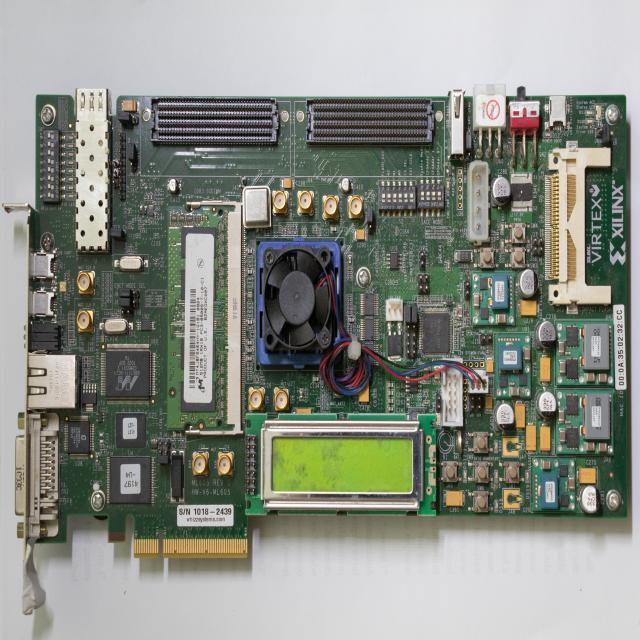Button: (468, 491, 494, 512), (468, 432, 493, 453), (499, 462, 524, 483), (505, 247, 529, 268), (505, 223, 530, 243), (468, 462, 493, 482), (439, 461, 462, 482), (474, 248, 498, 268)
Capacitor: (432, 363, 441, 383), (422, 364, 430, 384), (558, 360, 566, 376), (558, 408, 566, 424), (558, 428, 566, 444), (568, 474, 575, 492), (509, 386, 520, 397), (584, 441, 596, 451), (596, 442, 608, 452), (558, 340, 565, 356), (584, 373, 596, 382), (597, 373, 607, 383), (541, 460, 551, 470), (496, 314, 507, 323), (473, 293, 479, 309), (524, 347, 530, 362), (344, 231, 350, 244), (245, 338, 254, 346), (245, 346, 254, 354), (245, 355, 254, 363), (95, 452, 100, 465), (330, 225, 338, 233), (348, 316, 356, 324), (246, 318, 254, 326), (245, 268, 254, 275), (386, 389, 395, 396), (386, 405, 395, 412), (246, 248, 254, 255), (312, 376, 320, 383), (386, 382, 395, 388), (446, 260, 451, 270), (299, 387, 303, 399), (386, 398, 394, 404), (423, 400, 430, 406), (100, 335, 105, 343), (140, 182, 146, 188), (128, 207, 132, 216), (153, 232, 159, 238), (564, 482, 568, 491), (565, 419, 572, 424), (128, 221, 132, 229), (466, 330, 471, 336), (565, 351, 571, 356), (514, 378, 520, 383), (353, 394, 359, 399), (180, 438, 186, 443), (97, 480, 102, 486), (256, 228, 263, 232), (409, 251, 413, 258), (442, 298, 446, 305), (130, 182, 135, 187), (136, 233, 141, 238), (111, 313, 116, 318), (439, 256, 442, 264), (254, 375, 257, 383), (257, 375, 260, 383), (154, 212, 157, 219), (131, 247, 134, 254), (423, 390, 426, 397), (426, 390, 429, 397), (116, 314, 121, 318), (396, 227, 398, 236), (128, 246, 130, 254), (376, 258, 378, 266), (462, 338, 464, 346), (171, 438, 175, 442), (372, 194, 374, 201), (376, 251, 378, 258), (384, 256, 386, 263), (429, 298, 431, 305), (374, 389, 376, 396)
Clock: (243, 185, 271, 228), (170, 450, 184, 503), (114, 254, 148, 273), (99, 318, 133, 334)
Connector: (546, 141, 612, 315), (140, 95, 290, 147), (295, 96, 443, 147), (7, 410, 64, 542), (75, 88, 111, 255), (24, 354, 80, 409), (304, 297, 338, 373), (468, 160, 490, 246), (441, 362, 462, 429), (449, 88, 465, 161), (32, 286, 57, 323), (33, 248, 57, 285), (545, 96, 569, 129), (246, 433, 256, 496), (118, 132, 127, 201), (386, 298, 402, 332), (468, 369, 488, 393), (76, 271, 95, 296), (77, 308, 95, 334), (218, 450, 234, 478), (272, 190, 289, 216), (297, 190, 314, 216), (347, 195, 364, 221), (192, 451, 209, 477), (322, 195, 339, 220), (248, 387, 265, 412), (274, 386, 290, 412), (405, 325, 416, 357), (457, 167, 463, 210), (468, 394, 482, 412), (416, 274, 429, 293), (531, 237, 543, 255), (462, 376, 468, 412), (158, 438, 170, 454), (463, 361, 485, 369), (418, 251, 426, 269), (464, 283, 472, 301), (132, 290, 140, 308), (434, 394, 441, 414), (120, 308, 133, 318), (479, 334, 492, 344), (240, 176, 246, 194), (112, 167, 119, 178), (112, 177, 119, 188), (131, 114, 138, 124), (595, 128, 602, 138), (112, 158, 119, 168), (367, 224, 373, 234), (130, 162, 136, 171)
Diode: (443, 300, 455, 306)
Electrolytic Capacitor: (535, 386, 557, 421), (490, 175, 511, 210), (576, 484, 600, 514), (535, 319, 557, 350), (517, 270, 539, 299), (494, 402, 514, 432), (538, 353, 551, 386), (576, 467, 598, 484), (539, 422, 551, 453), (444, 490, 465, 507), (514, 399, 525, 431), (525, 422, 536, 454), (518, 300, 539, 316), (358, 375, 369, 405), (340, 177, 358, 194), (167, 178, 182, 195), (456, 250, 475, 262), (121, 100, 138, 112), (139, 188, 154, 200), (486, 354, 494, 376), (353, 229, 367, 241), (485, 392, 492, 413)
Ferrite Bead: (59, 498, 66, 504), (60, 454, 64, 464), (69, 339, 75, 345), (100, 450, 106, 455)
IC: (256, 243, 344, 375), (101, 345, 156, 404), (106, 458, 155, 504), (418, 308, 452, 357), (580, 323, 609, 371), (581, 392, 610, 440), (115, 412, 146, 448), (540, 399, 560, 436), (81, 383, 98, 412), (360, 293, 378, 316), (360, 318, 378, 340), (362, 344, 378, 367), (386, 252, 402, 269), (405, 376, 422, 392), (566, 326, 578, 348), (566, 426, 578, 448), (566, 394, 578, 415), (567, 360, 578, 380), (137, 320, 155, 331), (498, 375, 508, 388), (559, 464, 568, 477), (560, 494, 569, 507), (150, 439, 158, 452), (96, 412, 105, 423), (480, 275, 488, 287), (519, 374, 527, 386), (481, 307, 488, 320), (149, 204, 153, 220)
Jumper: (117, 112, 131, 125), (110, 228, 125, 240), (156, 454, 171, 466), (128, 142, 136, 161), (602, 124, 609, 144), (606, 383, 613, 402), (119, 288, 132, 298), (119, 298, 132, 308), (367, 205, 374, 223), (411, 306, 417, 324), (466, 131, 471, 150)
Led: (22, 323, 62, 351), (595, 104, 601, 122), (59, 281, 66, 292), (66, 150, 75, 158), (462, 469, 467, 482), (66, 168, 75, 175), (66, 176, 75, 183), (66, 193, 75, 200), (66, 134, 75, 141), (66, 184, 74, 191), (66, 143, 75, 149), (66, 160, 75, 166), (494, 440, 498, 453), (446, 178, 450, 190), (500, 222, 504, 234), (494, 470, 498, 482), (525, 471, 529, 483), (494, 500, 498, 512), (586, 110, 594, 116), (586, 118, 594, 124), (543, 132, 551, 138), (501, 239, 504, 251)
Pads: (134, 538, 248, 558), (502, 436, 521, 458), (503, 488, 522, 508), (99, 432, 104, 445), (406, 397, 410, 407)
Resistor Jumper: (82, 370, 90, 383), (82, 356, 90, 368), (220, 224, 224, 232), (220, 246, 224, 254), (220, 279, 224, 287), (220, 354, 224, 362), (220, 378, 224, 386), (179, 216, 184, 222), (187, 216, 192, 222), (220, 257, 224, 264), (220, 367, 224, 374), (220, 389, 224, 396), (220, 411, 224, 418), (221, 268, 224, 276), (220, 402, 224, 408), (221, 235, 224, 242), (172, 216, 176, 221)
Resistor Network: (173, 430, 183, 438), (138, 224, 144, 230), (144, 193, 148, 201), (402, 257, 406, 265), (402, 274, 406, 282), (68, 317, 74, 322), (100, 445, 105, 450), (597, 122, 602, 127), (452, 177, 455, 185), (147, 193, 150, 201), (150, 193, 153, 201), (144, 220, 150, 224), (155, 258, 158, 266), (434, 296, 437, 304), (423, 298, 426, 306), (426, 298, 429, 306), (68, 313, 74, 317), (68, 322, 74, 326), (68, 326, 74, 330), (68, 330, 74, 334), (68, 335, 74, 339), (486, 344, 489, 352), (496, 232, 499, 239), (64, 273, 67, 280), (64, 292, 67, 299), (420, 298, 423, 305), (432, 298, 435, 305), (61, 413, 64, 420), (139, 220, 143, 225), (347, 324, 352, 328), (437, 297, 439, 305), (347, 330, 351, 332)
Switch: (545, 85, 577, 166), (378, 180, 416, 217), (416, 180, 445, 217)
Transistor: (387, 334, 402, 362), (446, 166, 454, 176)
